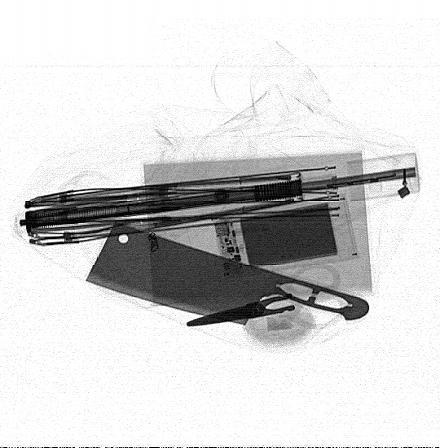Knife: (82, 219, 368, 327)
Powerbank: (213, 195, 360, 283)
Scissors: (186, 261, 346, 332)
